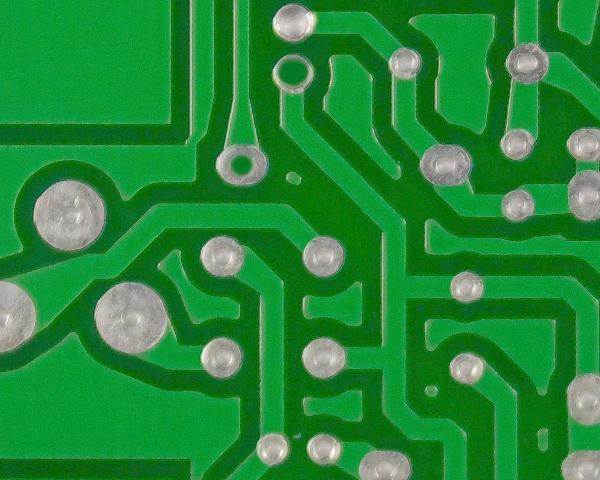missing hole: (213, 139, 273, 189)
